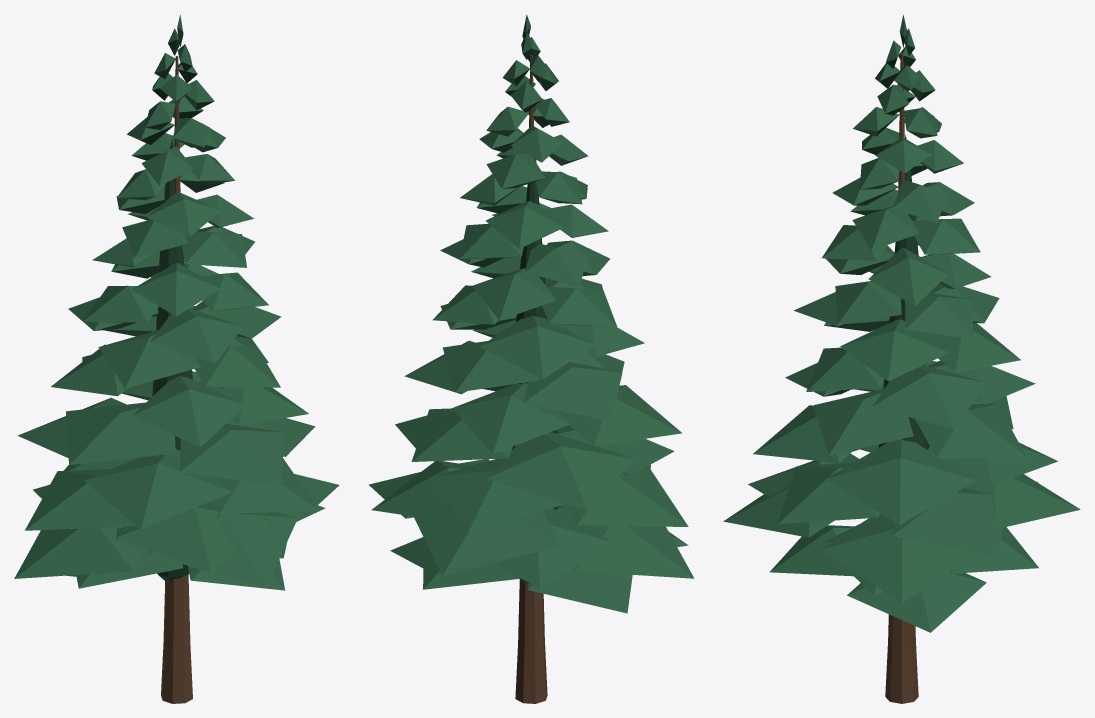
File: broad-tiered-lod1.glb
The picture shows the model from 3 angles, left to right: view 1: azimuth 30°, elevation 25°; view 2: azimuth 150°, elevation 25°; view 3: azimuth 270°, elevation 25°; orthographic projection.
Visible parts, largest first — view 1: OuterNeedles, InnerNeedles, Bark; view 2: OuterNeedles, InnerNeedles, Bark; view 3: OuterNeedles, InnerNeedles, Bark.
Boxes of the visible parts, x1,y1,x2,y2 form: OuterNeedles: [14, 15, 339, 590]; InnerNeedles: [86, 27, 299, 581]; Bark: [161, 56, 192, 703]; OuterNeedles: [369, 14, 694, 613]; InnerNeedles: [410, 26, 628, 583]; Bark: [515, 55, 547, 703]; OuterNeedles: [723, 14, 1080, 632]; InnerNeedles: [825, 32, 1011, 452]; Bark: [885, 52, 918, 703].
Size of the model in its own units: 9.5 by 19 by 9.
